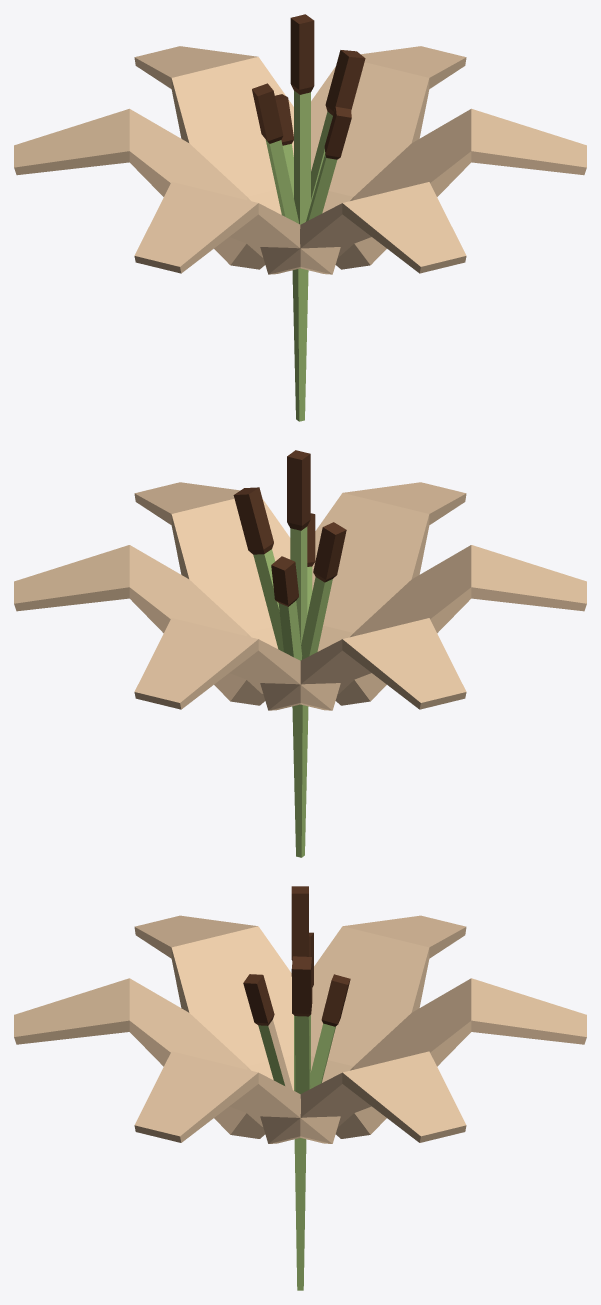
File: item_lily.fbx
3 renders of one model, top to bottom at view 1: azimuth 30°, elevation 25°; view 2: azimuth 150°, elevation 25°; view 3: azimuth 270°, elevation 25°, orthographic.
Parts seen in each view (by area): view 1: ItemLily; view 2: ItemLily; view 3: ItemLily.
Boxes of the visible parts, left/top/right/bottom form: ItemLily: left=14, top=14, right=586, bottom=421; ItemLily: left=14, top=450, right=586, bottom=857; ItemLily: left=14, top=886, right=586, bottom=1290.
Bounding box in the file's own units: 833 × 704 × 914.
